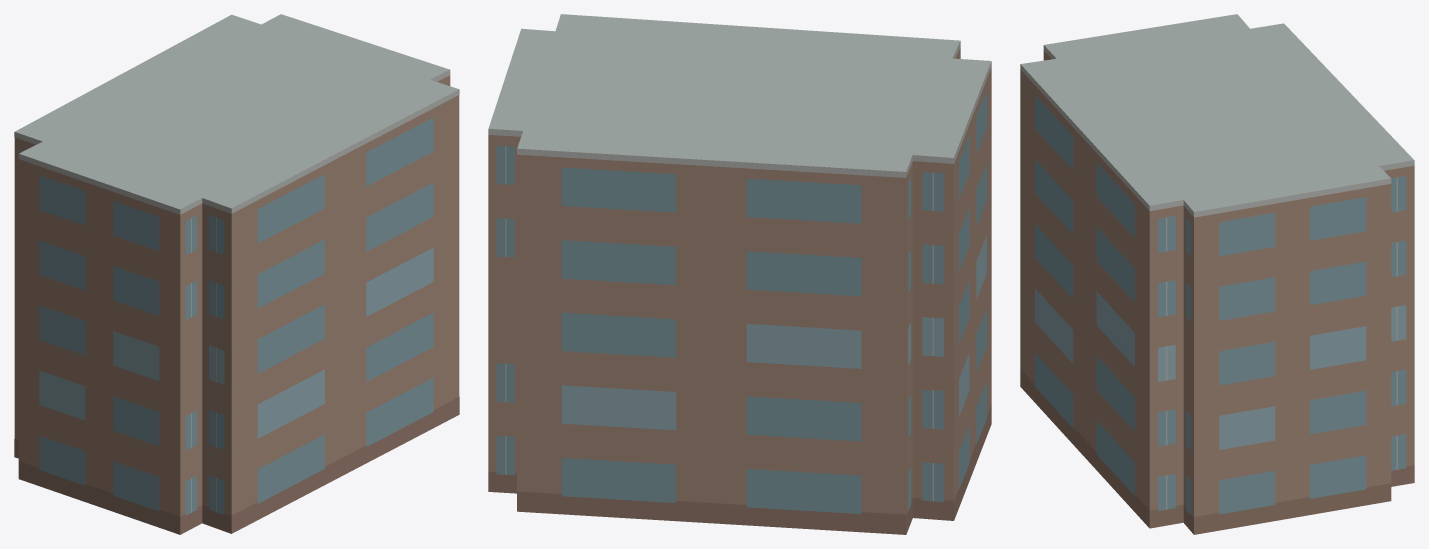
File: survey-upis-32856641.glb
The picture shows the model from 3 angles, left to right: view 1: azimuth 30°, elevation 25°; view 2: azimuth 150°, elevation 25°; view 3: azimuth 270°, elevation 25°; orthographic projection. The views are drawn at different scales.
Visible parts, largest first — view 1: survey-upis-32856641.tmp; view 2: survey-upis-32856641.tmp; view 3: survey-upis-32856641.tmp.
Part boxes in pixels (box(x1,y1,x2,y2)): survey-upis-32856641.tmp: box(14, 14, 459, 534); survey-upis-32856641.tmp: box(488, 14, 991, 534); survey-upis-32856641.tmp: box(1020, 14, 1414, 534).
Size of the model in its own units: 19.38 by 14.7 by 16.28.
